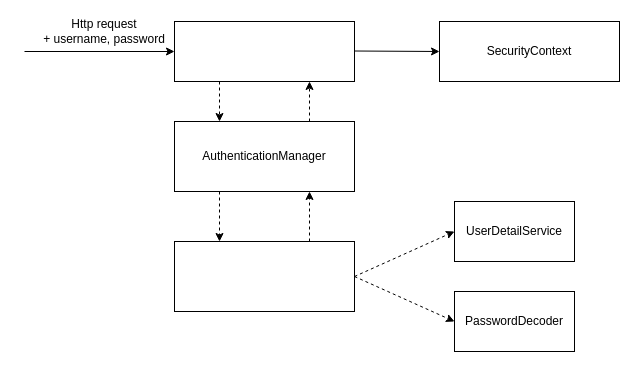
This 637x369 diagram has some shape labels left out. Each missing label, with the box of its shape:
AuthenticationFilter: (174, 20, 354, 82)
AuthenticationProvider: (174, 240, 354, 312)
